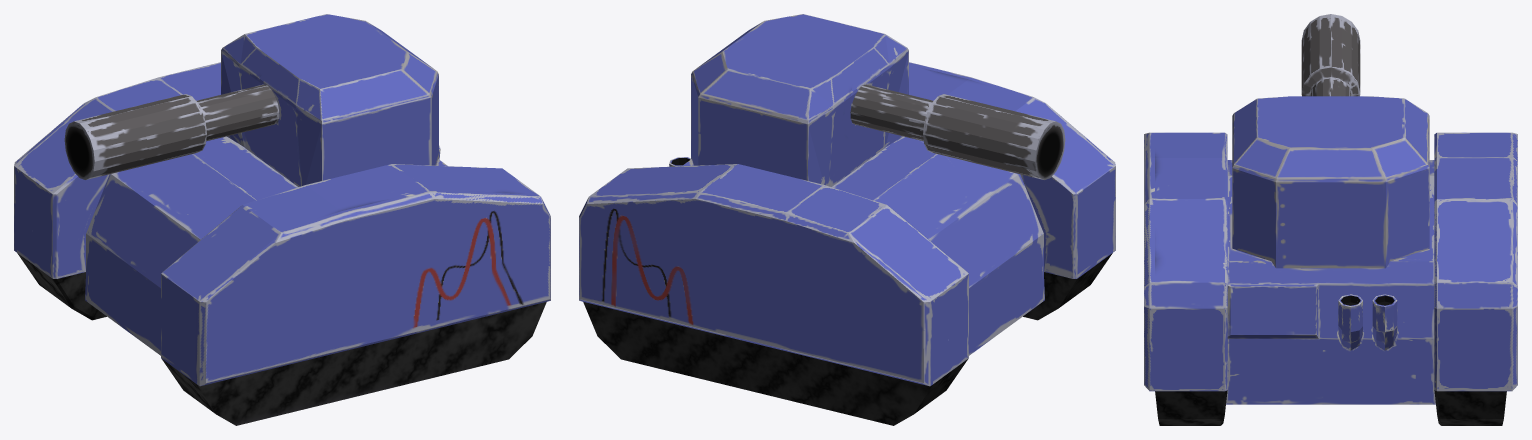
File: Tanks.obj
3 renders of one model, left to right at view 1: azimuth 30°, elevation 25°; view 2: azimuth 150°, elevation 25°; view 3: azimuth 270°, elevation 25°, orthographic. The views are drawn at different scales.
Parts seen in each view (by area): view 1: Tank; view 2: Tank; view 3: Tank.
Part boxes in pixels (x1,y1,x2,y2): Tank: (14,14,550,425); Tank: (579,14,1115,425); Tank: (1144,14,1517,425).
Bounding box in the file's own units: 2.64 × 1.78 × 2.31.
